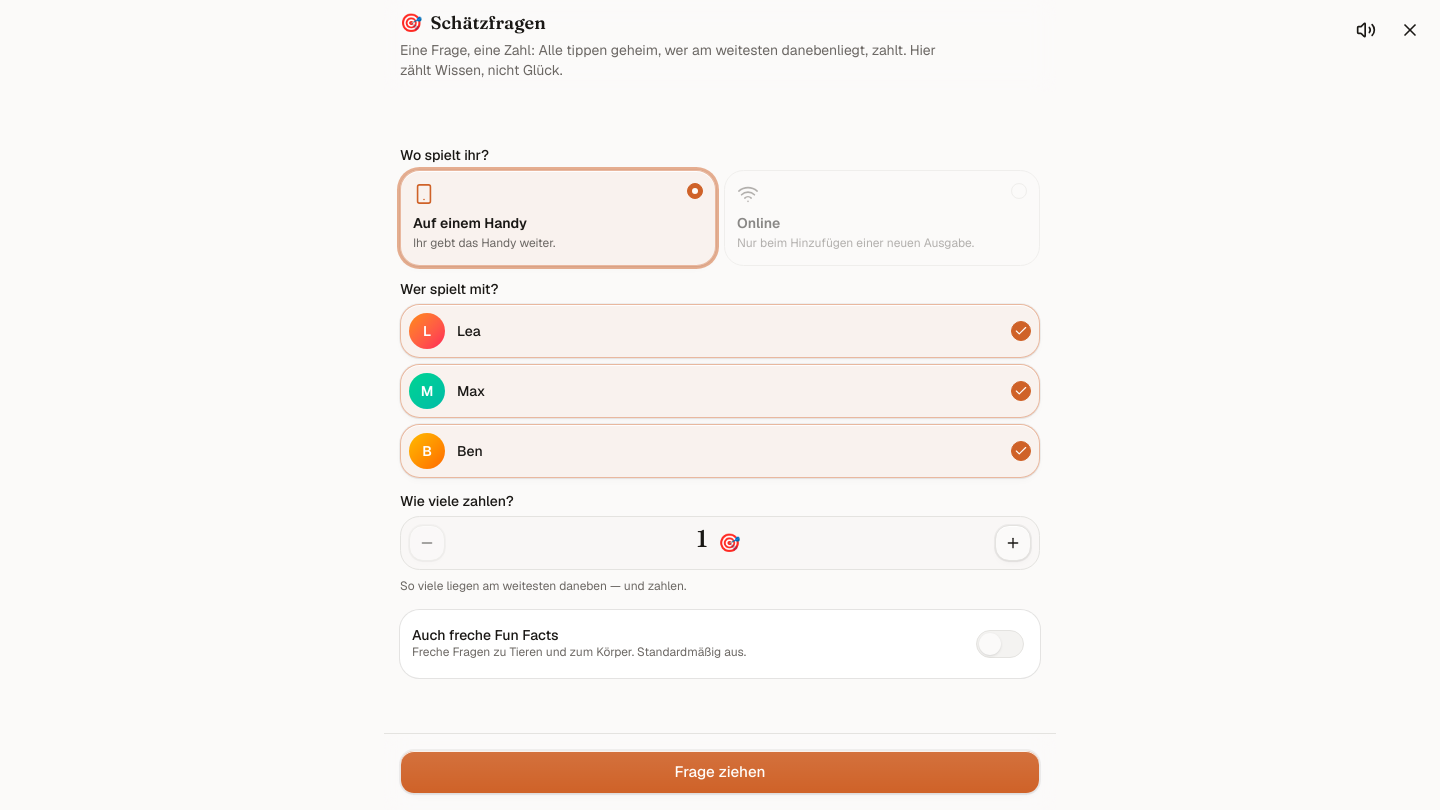
SplitEstimateDialog › start errors › shows round-running and lets the table try again
Click the button "Frage ziehen" at (720, 772), box [400,750,1040,794]
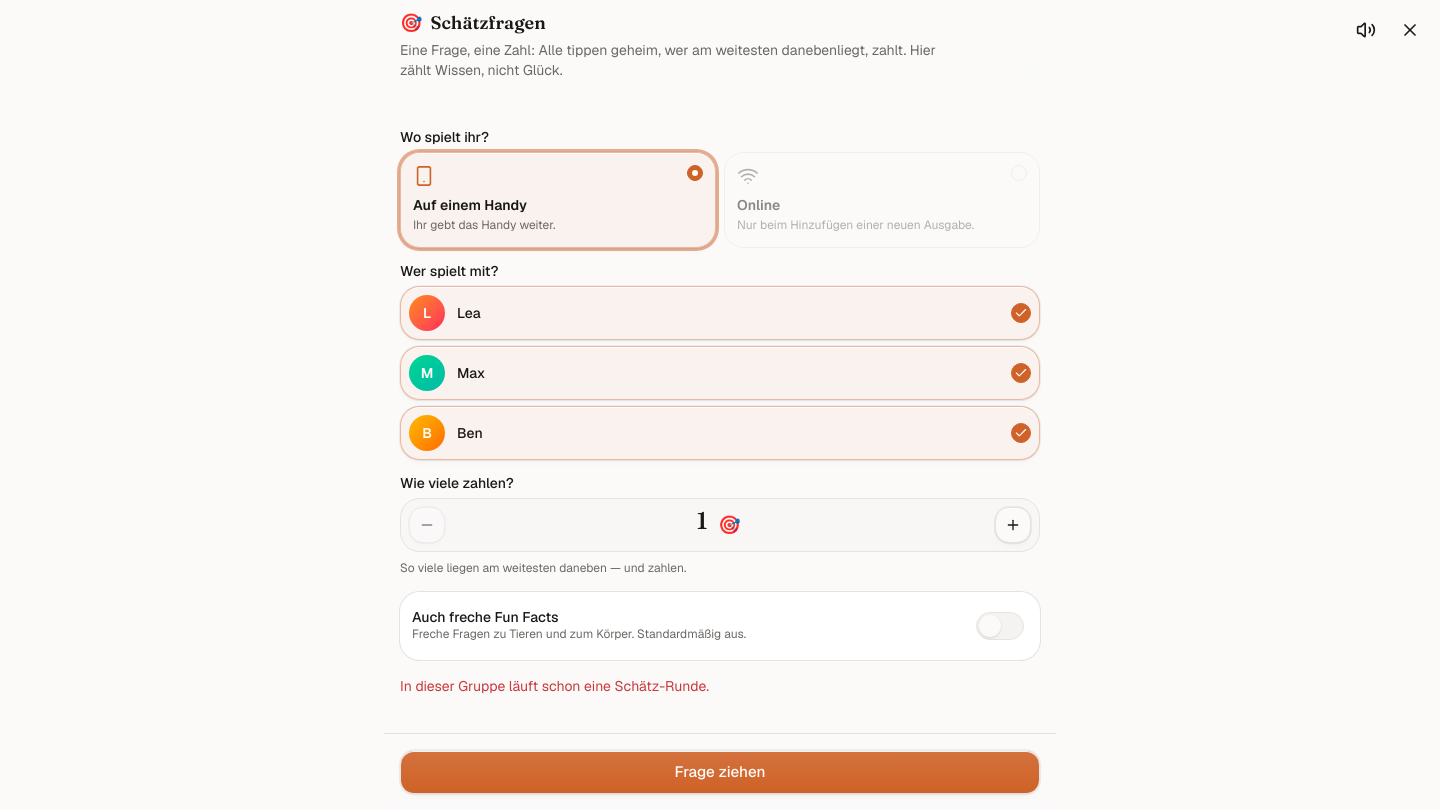
Check: the message reads "In dieser Gruppe läuft schon eine Schätz-Runde.", box [400,676,709,694]
Click the button "Frage ziehen" at (720, 772), box [400,750,1040,794]
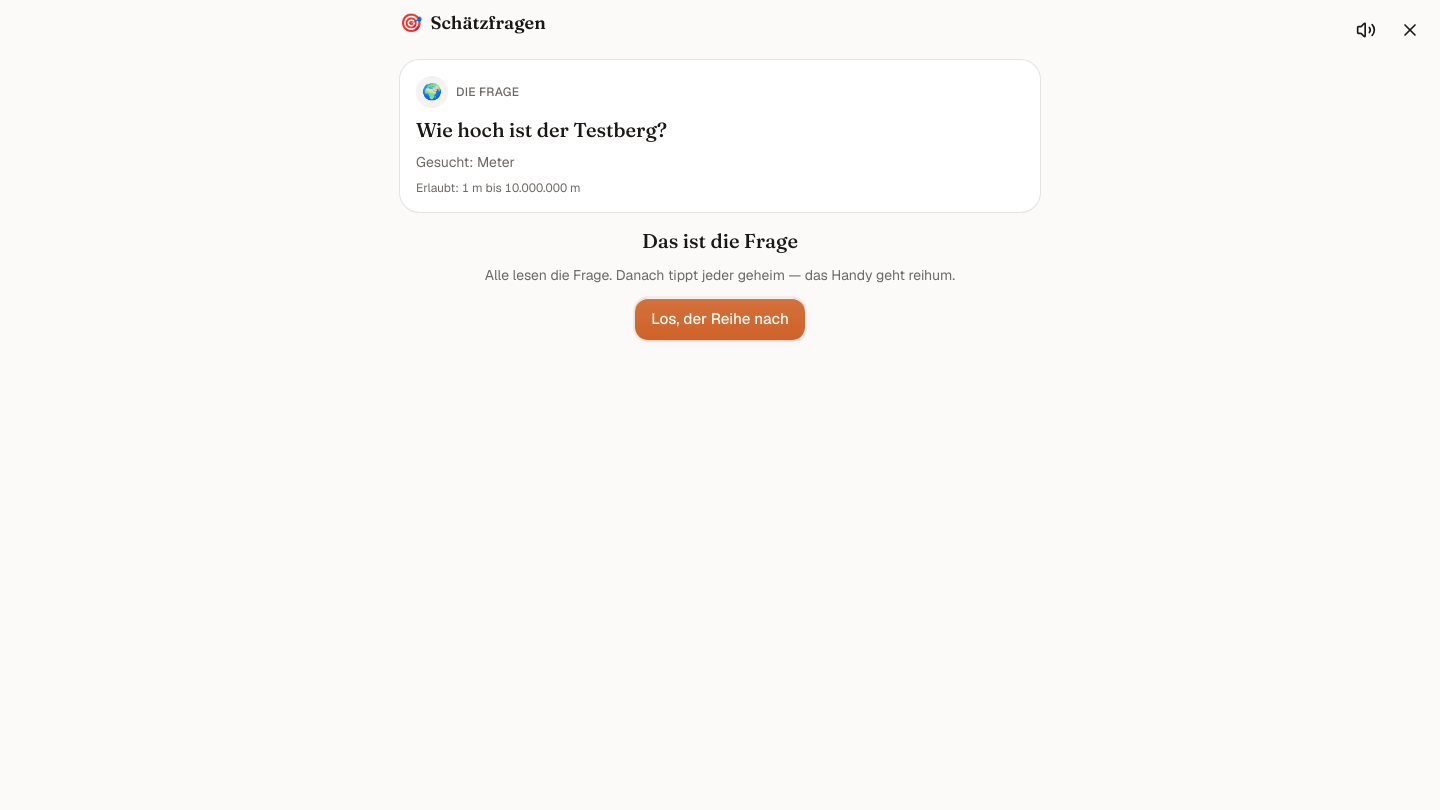
Check: the heading "Das ist die Frage" is shown, box [642,228,798,253]
